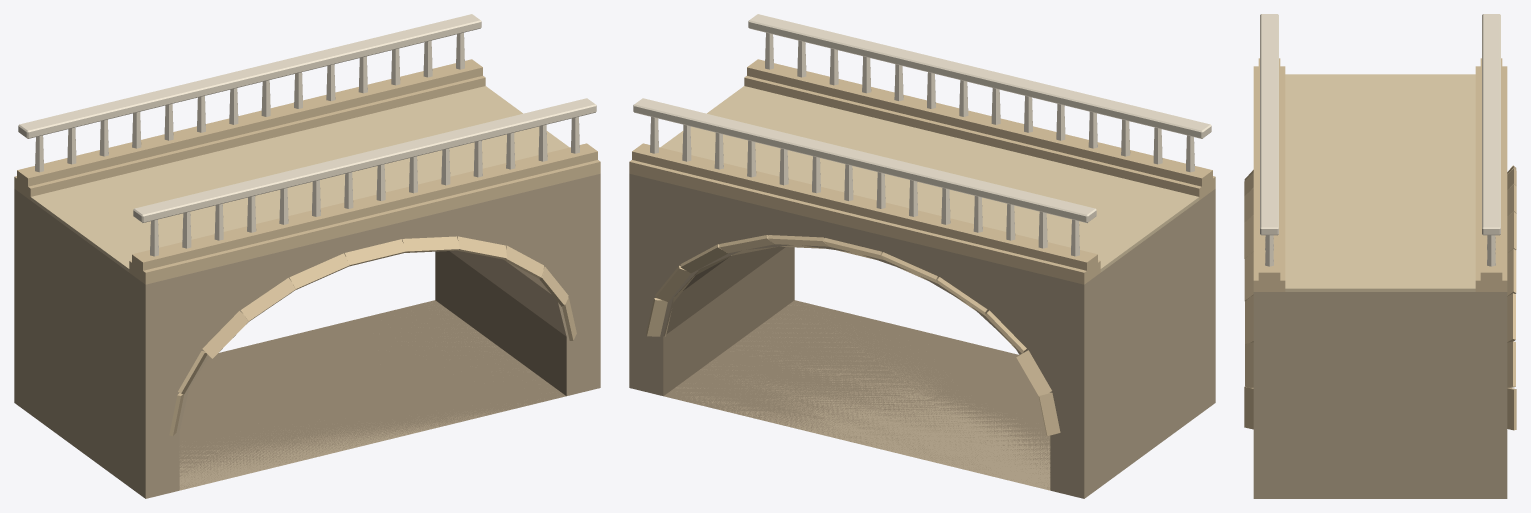
Rendered from bridge_span.glb.
3 renders of one model, left to right at view 1: azimuth 30°, elevation 25°; view 2: azimuth 150°, elevation 25°; view 3: azimuth 270°, elevation 25°, orthographic. The views are drawn at different scales.
Visible parts, largest first — view 1: span; view 2: span; view 3: span.
Part boxes in pixels (<box>): span: <box>14,14,600,498</box>; span: <box>629,14,1215,498</box>; span: <box>1244,14,1516,498</box>.
Size of the model in its own units: 8 by 4.72 by 4.29.
